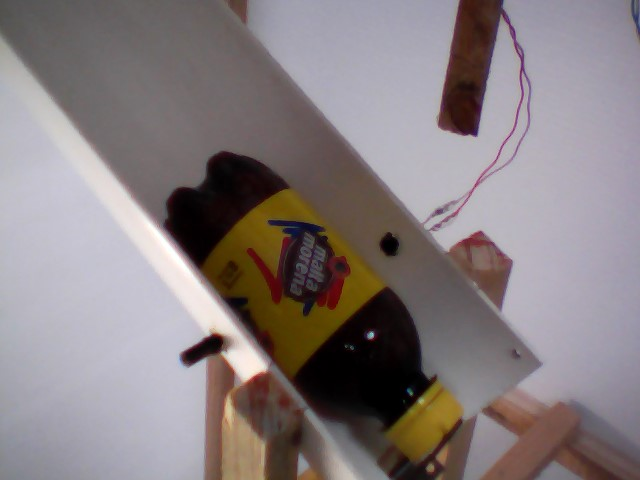plastico: (148, 143, 471, 466)
